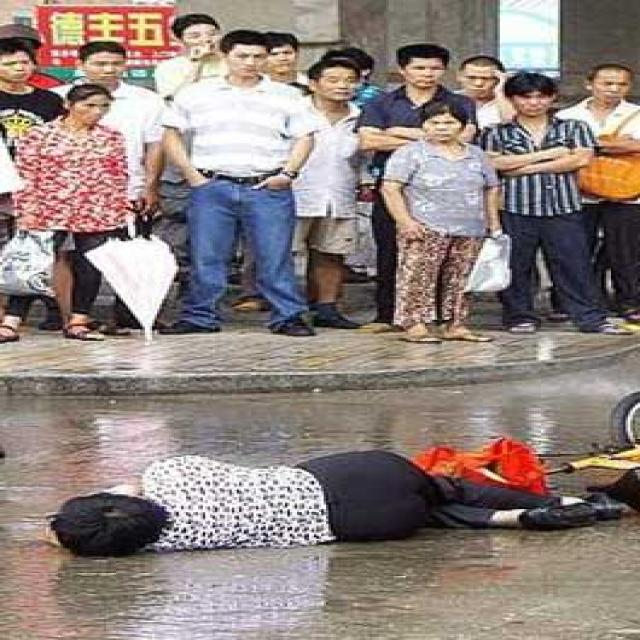10-: (0, 0, 638, 357)
down: (22, 390, 626, 574)
